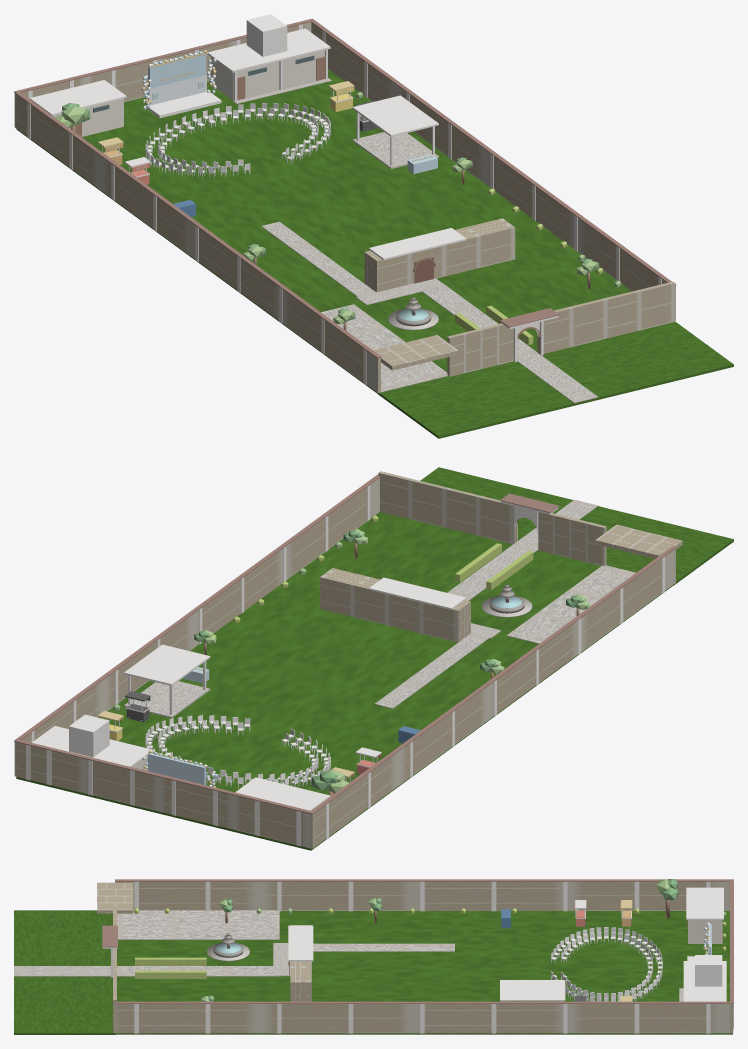
The model's file is Escenariov2.glb.
3 views of the same model, one above another, from view 1: azimuth 30°, elevation 25°; view 2: azimuth 150°, elevation 25°; view 3: azimuth 270°, elevation 25° (orthographic). The views are drawn at different scales.
Visible parts, largest first — view 1: SUELO_UNICO_CESPED, SUELO_EXTERIOR, PERIMETRO_IZQUIERDO, PERIMETRO_DERECHO, FACHADA_DER, PATIO_EDIFICIO_FRENTE, CAMINO_ENTRADA.001, FACHADA_IZQ, BANOS_CUERPO, PERIMETRO_FONDO, BANOS_TECHO, TERRAZA_TECHO (+16 smaller); view 2: SUELO_UNICO_CESPED, PERIMETRO_IZQUIERDO, PERIMETRO_FONDO, PERIMETRO_DERECHO, SUELO_EXTERIOR, FACHADA_DER, PATIO_EDIFICIO_FRENTE, CAMINO_ENTRADA.001, FACHADA_IZQ, TERRAZA_TECHO, REMATE_IZQUIERDO, REMATE_DERECHO (+11 smaller); view 3: SUELO_UNICO_CESPED, PERIMETRO_DERECHO, PERIMETRO_IZQUIERDO, SUELO_EXTERIOR, CAMINO_ENTRADA.001, REMATE_DERECHO, REMATE_IZQUIERDO, TERRAZA_TECHO, CAMINO_ENTRADA, CAMINO_CORREDOR, COCINA_TECHO, FACHADA_IZQ.001 (+13 smaller).
Boxes of the visible parts, bbox=[...] form: SUELO_UNICO_CESPED: bbox=[16, 69, 675, 394]; SUELO_EXTERIOR: bbox=[378, 322, 733, 438]; PERIMETRO_IZQUIERDO: bbox=[16, 94, 380, 392]; PERIMETRO_DERECHO: bbox=[311, 22, 675, 320]; FACHADA_DER: bbox=[537, 281, 675, 353]; PATIO_EDIFICIO_FRENTE: bbox=[364, 218, 515, 292]; CAMINO_ENTRADA.001: bbox=[321, 304, 448, 392]; FACHADA_IZQ: bbox=[447, 323, 513, 376]; BANOS_CUERPO: bbox=[211, 50, 324, 100]; PERIMETRO_FONDO: bbox=[14, 22, 311, 127]; BANOS_TECHO: bbox=[207, 28, 330, 72]; TERRAZA_TECHO: bbox=[352, 95, 438, 136]; SUELO_UNICO_CESPED: bbox=[16, 512, 673, 850]; PERIMETRO_IZQUIERDO: bbox=[314, 549, 675, 847]; PERIMETRO_FONDO: bbox=[14, 742, 314, 848]; PERIMETRO_DERECHO: bbox=[21, 478, 379, 742]; SUELO_EXTERIOR: bbox=[420, 467, 733, 585]; FACHADA_DER: bbox=[378, 471, 516, 544]; PATIO_EDIFICIO_FRENTE: bbox=[320, 568, 470, 642]; CAMINO_ENTRADA.001: bbox=[506, 565, 635, 643]; FACHADA_IZQ: bbox=[538, 512, 606, 565]; TERRAZA_TECHO: bbox=[124, 644, 210, 685]; REMATE_IZQUIERDO: bbox=[310, 546, 676, 813]; REMATE_DERECHO: bbox=[15, 474, 380, 740]; SUELO_UNICO_CESPED: bbox=[112, 911, 732, 1034]; PERIMETRO_DERECHO: bbox=[115, 1004, 730, 1033]; PERIMETRO_IZQUIERDO: bbox=[115, 881, 729, 910]; SUELO_EXTERIOR: bbox=[14, 910, 115, 1034]; CAMINO_ENTRADA.001: bbox=[117, 910, 279, 939]; REMATE_DERECHO: bbox=[115, 1001, 731, 1003]; REMATE_IZQUIERDO: bbox=[115, 879, 731, 881]; TERRAZA_TECHO: bbox=[500, 980, 565, 1001]; CAMINO_ENTRADA: bbox=[117, 966, 279, 976]; CAMINO_CORREDOR: bbox=[313, 943, 454, 951]; COCINA_TECHO: bbox=[686, 887, 723, 919]; FACHADA_IZQ.001: bbox=[97, 882, 133, 913].
Bounding box in the file's own units: 28.76 × 5.48 × 70.5.
Materials: 27 (6 with a texture image).
